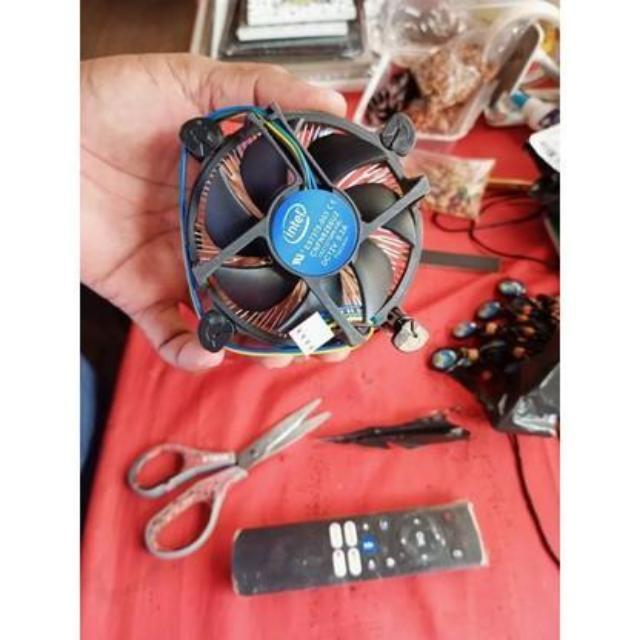CPU_Fan: (175, 102, 432, 353)
